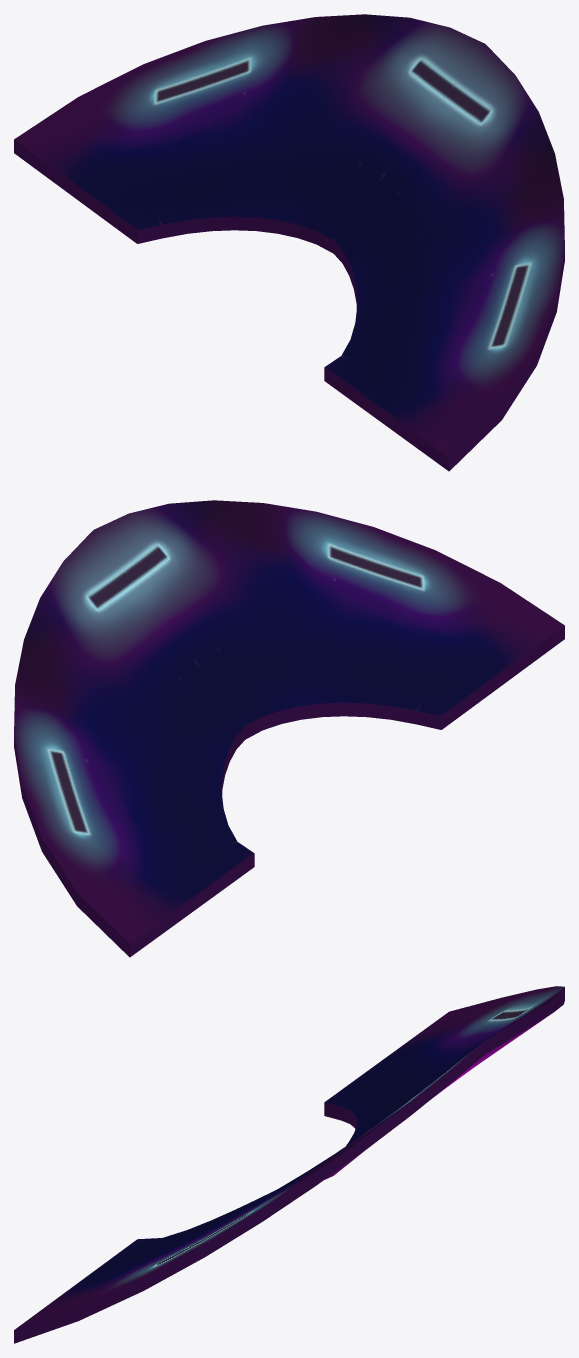
The model's file is urban_curve.gltf.
3 renders of one model, top to bottom at view 1: azimuth 30°, elevation 25°; view 2: azimuth 150°, elevation 25°; view 3: azimuth 330°, elevation 25°, orthographic.
Visible parts, largest first — view 1: urban_curve_glb; view 2: urban_curve_glb; view 3: urban_curve_glb.
Boxes of the visible parts, box(x1,y1,x2,y2) form: urban_curve_glb: box(14, 14, 564, 471); urban_curve_glb: box(14, 500, 564, 957); urban_curve_glb: box(14, 986, 564, 1343).
Size of what is drawn, in the model's own units: 4.74 by 3.67 by 14.03.
1 material, 1 textured.
